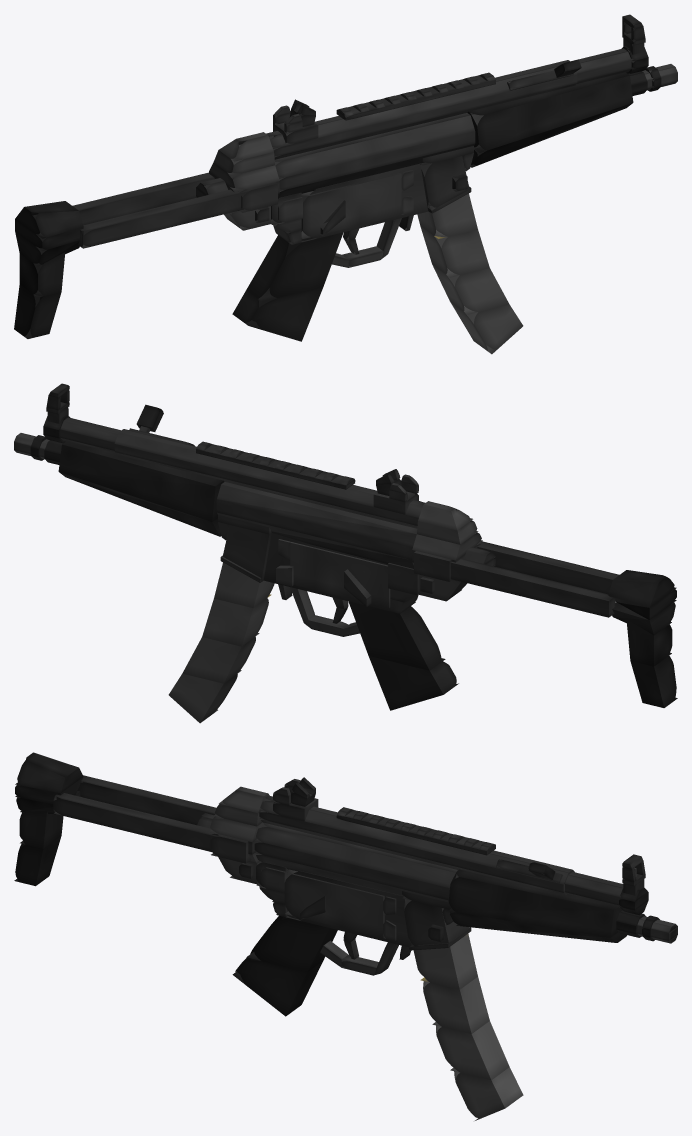
The picture shows the model from 3 angles, top to bottom: view 1: azimuth 30°, elevation 25°; view 2: azimuth 150°, elevation 25°; view 3: azimuth 330°, elevation 25°; orthographic projection.
Visible parts, largest first — view 1: gunModel49, gunModel8, gunModel29, gunModel38, gunModel19, gunModel10, gunModel30, gunModel20, gunModel9, gunModel6, ammoModel1, ammoModel2 (+24 smaller); view 2: gunModel49, gunModel8, gunModel29, gunModel20, gunModel10, gunModel38, gunModel30, gunModel19, gunModel9, gunModel6, ammoModel1, ammoModel2 (+24 smaller); view 3: gunModel49, gunModel8, gunModel38, gunModel19, gunModel10, gunModel29, gunModel20, ammoModel2, gunModel30, gunModel9, ammoModel1, gunModel6 (+19 smaller).
Boxes of the visible parts, x1=… form: gunModel49: x1=467, y1=72, x2=633, y2=152; gunModel8: x1=274, y1=113, x2=483, y2=178; gunModel29: x1=246, y1=232, x2=343, y2=301; gunModel38: x1=301, y1=173, x2=401, y2=238; gunModel19: x1=78, y1=189, x2=250, y2=248; gunModel10: x1=266, y1=60, x2=577, y2=148; gunModel30: x1=232, y1=287, x2=323, y2=341; gunModel20: x1=72, y1=172, x2=214, y2=225; gunModel9: x1=269, y1=75, x2=577, y2=156; gunModel6: x1=275, y1=131, x2=475, y2=190; ammoModel1: x1=420, y1=226, x2=489, y2=277; ammoModel2: x1=432, y1=265, x2=509, y2=314; gunModel49: x1=58, y1=441, x2=224, y2=521; gunModel8: x1=217, y1=482, x2=417, y2=547; gunModel29: x1=348, y1=601, x2=445, y2=670; gunModel20: x1=450, y1=558, x2=615, y2=617; gunModel10: x1=114, y1=429, x2=424, y2=517; gunModel38: x1=290, y1=542, x2=390, y2=607; gunModel30: x1=368, y1=656, x2=458, y2=710; gunModel19: x1=477, y1=541, x2=619, y2=594; gunModel9: x1=114, y1=444, x2=418, y2=525; gunModel6: x1=216, y1=500, x2=412, y2=559; ammoModel1: x1=202, y1=598, x2=268, y2=646; ammoModel2: x1=182, y1=636, x2=255, y2=683; gunModel49: x1=448, y1=869, x2=622, y2=937; gunModel8: x1=255, y1=820, x2=458, y2=888; gunModel38: x1=284, y1=869, x2=384, y2=937; gunModel19: x1=53, y1=793, x2=218, y2=851; gunModel10: x1=259, y1=795, x2=574, y2=884; gunModel29: x1=246, y1=915, x2=337, y2=972; gunModel20: x1=77, y1=775, x2=216, y2=825; ammoModel2: x1=436, y1=1021, x2=509, y2=1080; gunModel30: x1=232, y1=957, x2=322, y2=1016; gunModel9: x1=259, y1=812, x2=564, y2=892; ammoModel1: x1=423, y1=977, x2=489, y2=1033; gunModel6: x1=254, y1=842, x2=449, y2=900.
Size of the model in its own units: 16.5 by 7.05 by 1.53.
